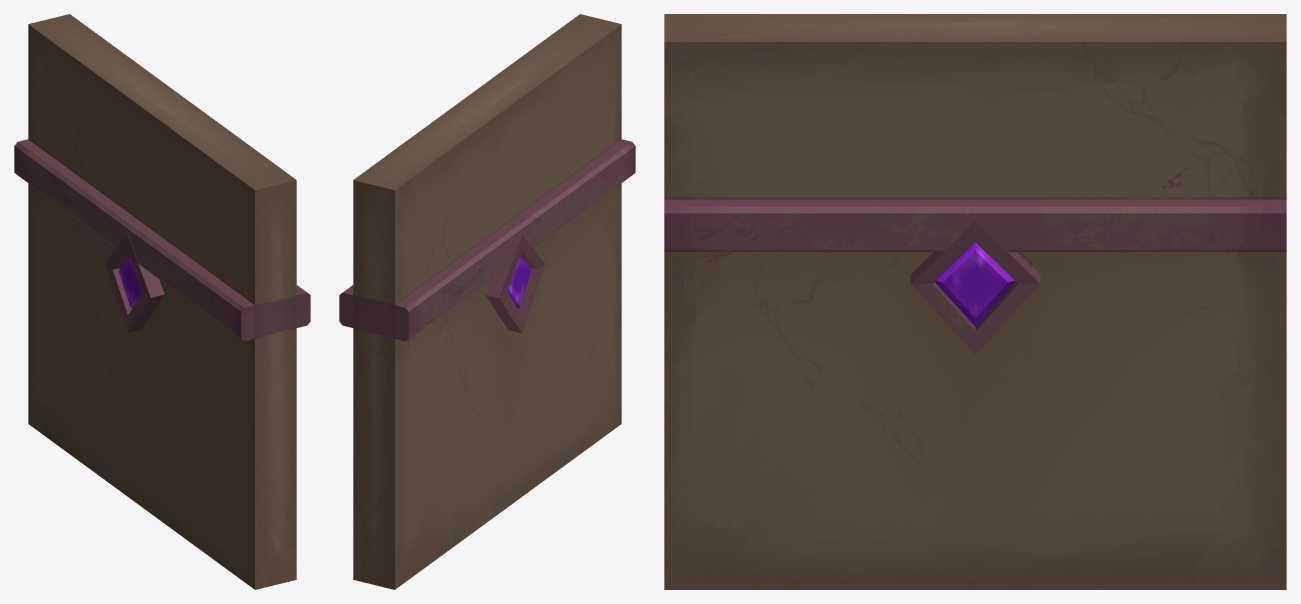
The model's file is Gate1.fbx.
3 views of the same model, side by side, from view 1: azimuth 30°, elevation 25°; view 2: azimuth 150°, elevation 25°; view 3: azimuth 270°, elevation 25° (orthographic). The views are drawn at different scales.
Parts seen in each view (by area): view 1: Gate_1; view 2: Gate_1; view 3: Gate_1.
Boxes of the visible parts, x1,y1,x2,y2 form: Gate_1: (14, 14, 310, 589); Gate_1: (339, 14, 635, 589); Gate_1: (664, 14, 1286, 589).
Size of the model in its own units: 333 by 1833 by 1886.
Materials: 1 (1 with a texture image).
